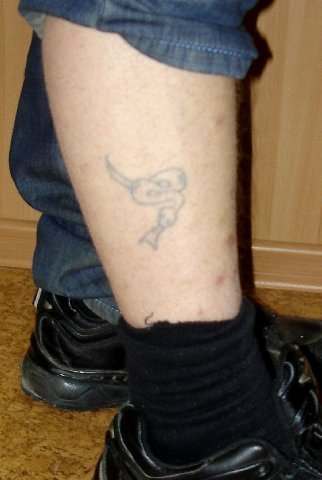tatu7_zmeya: (99, 131, 187, 261)
